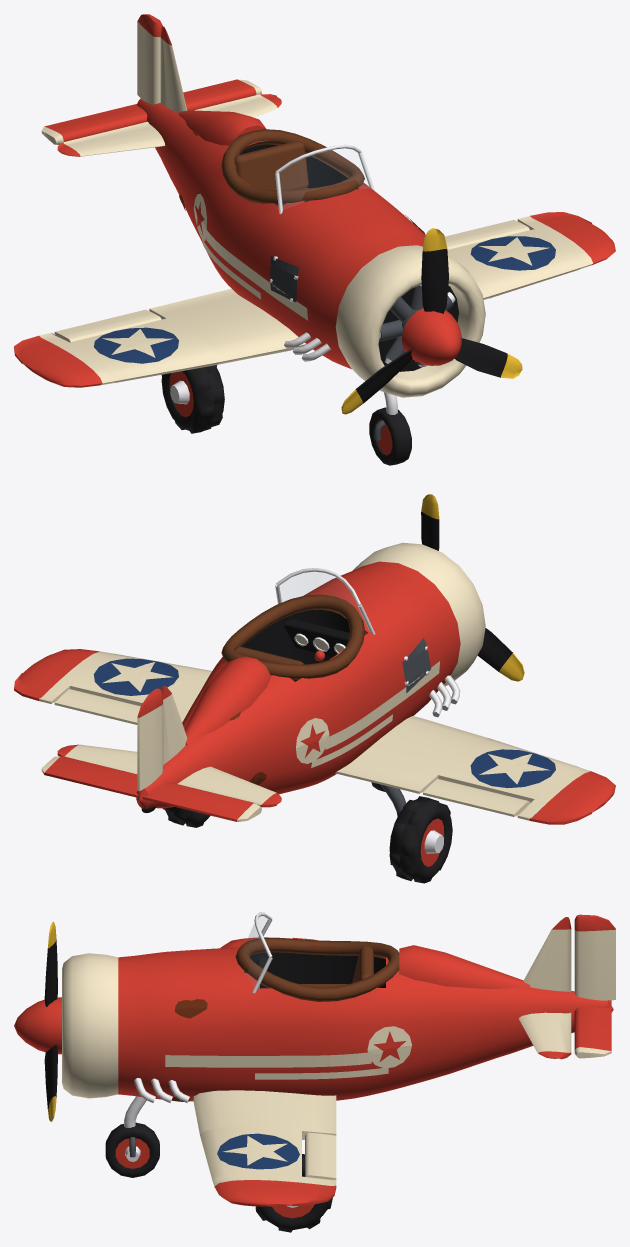
3 renders of one model, top to bottom at view 1: azimuth 30°, elevation 25°; view 2: azimuth 150°, elevation 25°; view 3: azimuth 270°, elevation 25°, orthographic. The views are drawn at different scales.
Parts seen in each view (by area): view 1: Body, Propeller, Elevator, Rudder, AileronR, AileronL; view 2: Body, Elevator, Rudder, Propeller, AileronR, AileronL; view 3: Body, Propeller, Rudder, Elevator, AileronL.
Part boxes in pixels (x1=…): Body: x1=14, y1=26, x2=615, y2=465; Propeller: x1=341, y1=228, x2=522, y2=414; Elevator: x1=41, y1=79, x2=261, y2=144; Rudder: x1=137, y1=14, x2=162, y2=104; AileronR: x1=54, y1=309, x2=161, y2=342; AileronL: x1=445, y1=220, x2=529, y2=249; Body: x1=14, y1=542, x2=615, y2=883; Elevator: x1=41, y1=756, x2=261, y2=821; Rudder: x1=137, y1=688, x2=162, y2=791; Propeller: x1=421, y1=494, x2=524, y2=681; AileronR: x1=423, y1=779, x2=530, y2=816; AileronL: x1=54, y1=689, x2=140, y2=724; Body: x1=62, y1=912, x2=613, y2=1232; Propeller: x1=14, y1=922, x2=61, y2=1121; Rudder: x1=574, y1=914, x2=615, y2=1000; Elevator: x1=574, y1=1000, x2=611, y2=1058; AileronL: x1=305, y1=1132, x2=336, y2=1179.
Size of the model in its own units: 2.6 by 1.18 by 2.48.
